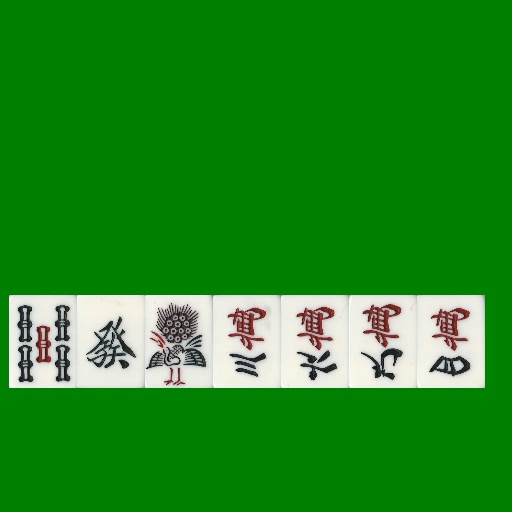1s: (145, 295, 213, 388)
3m: (213, 295, 281, 388)
4m: (417, 295, 485, 388)
5s: (9, 295, 77, 388)
6m: (281, 295, 349, 388)
9m: (349, 295, 417, 388)
hatsu: (77, 295, 145, 388)
